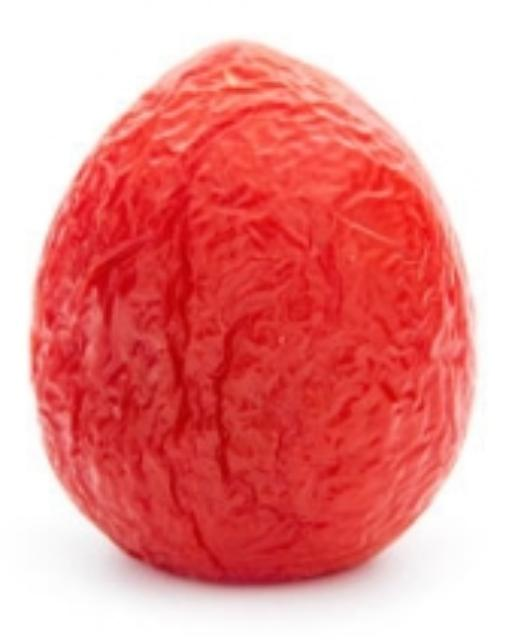defect: (26, 32, 479, 594)
